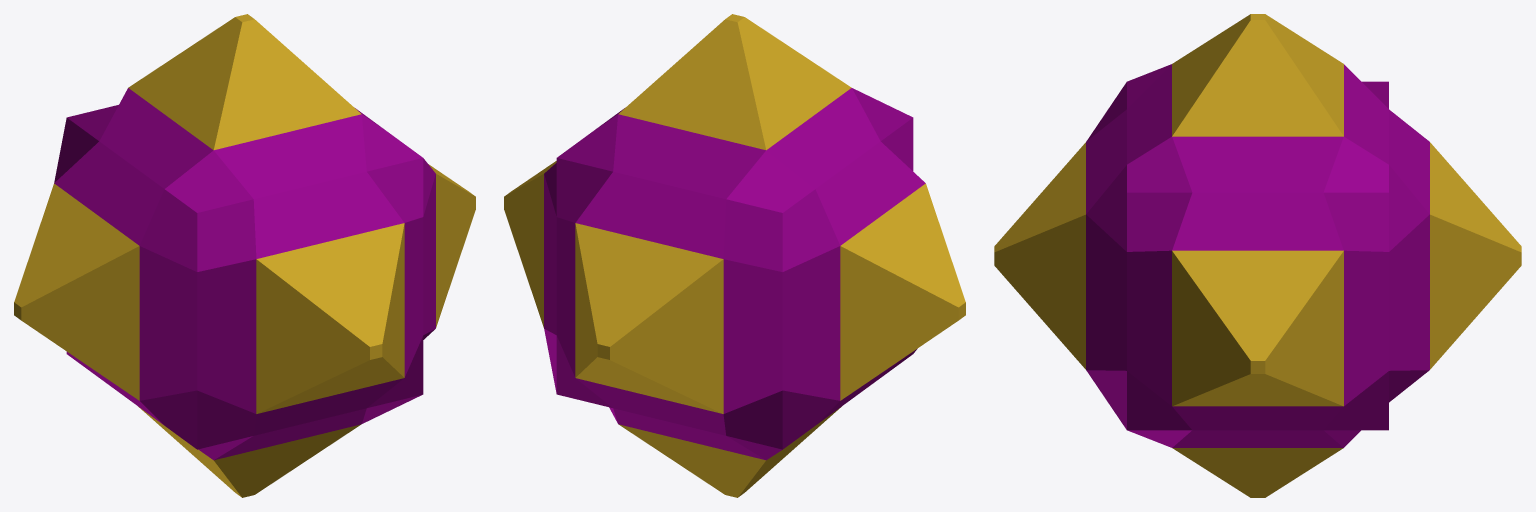
Rendered from ball.gltf.
3 renders of one model, left to right at view 1: azimuth 30°, elevation 25°; view 2: azimuth 150°, elevation 25°; view 3: azimuth 270°, elevation 25°, orthographic.
Parts seen in each view (by area): view 1: 振り子鉄球; view 2: 振り子鉄球; view 3: 振り子鉄球.
Part boxes in pixels (x1,y1,x2,y2): 振り子鉄球: (14, 14, 475, 497); 振り子鉄球: (504, 14, 965, 497); 振り子鉄球: (994, 14, 1521, 497).
Size of the model in its own units: 3.24 by 3.24 by 3.24.
1 material, 1 textured.
